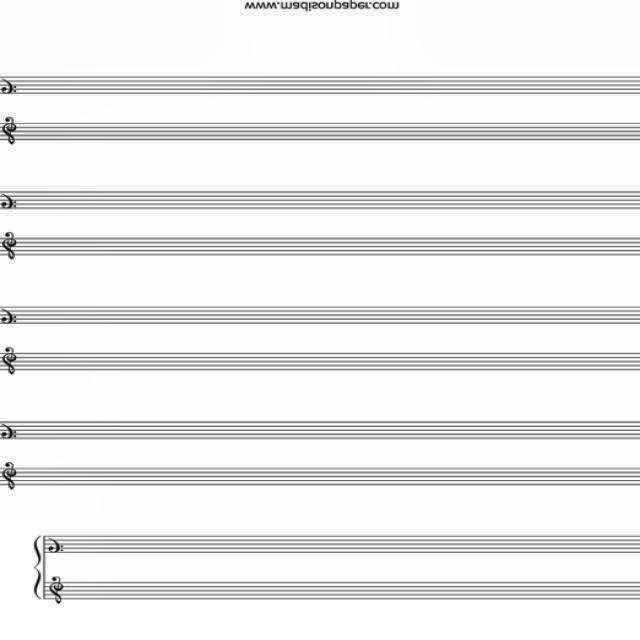Bass-clef: (0, 424, 18, 444), (47, 536, 65, 556), (0, 78, 18, 96), (0, 193, 18, 211), (0, 309, 18, 327)
Treble-clef: (0, 344, 18, 376), (48, 574, 64, 606), (2, 115, 18, 147), (0, 460, 16, 491), (1, 232, 18, 260)
